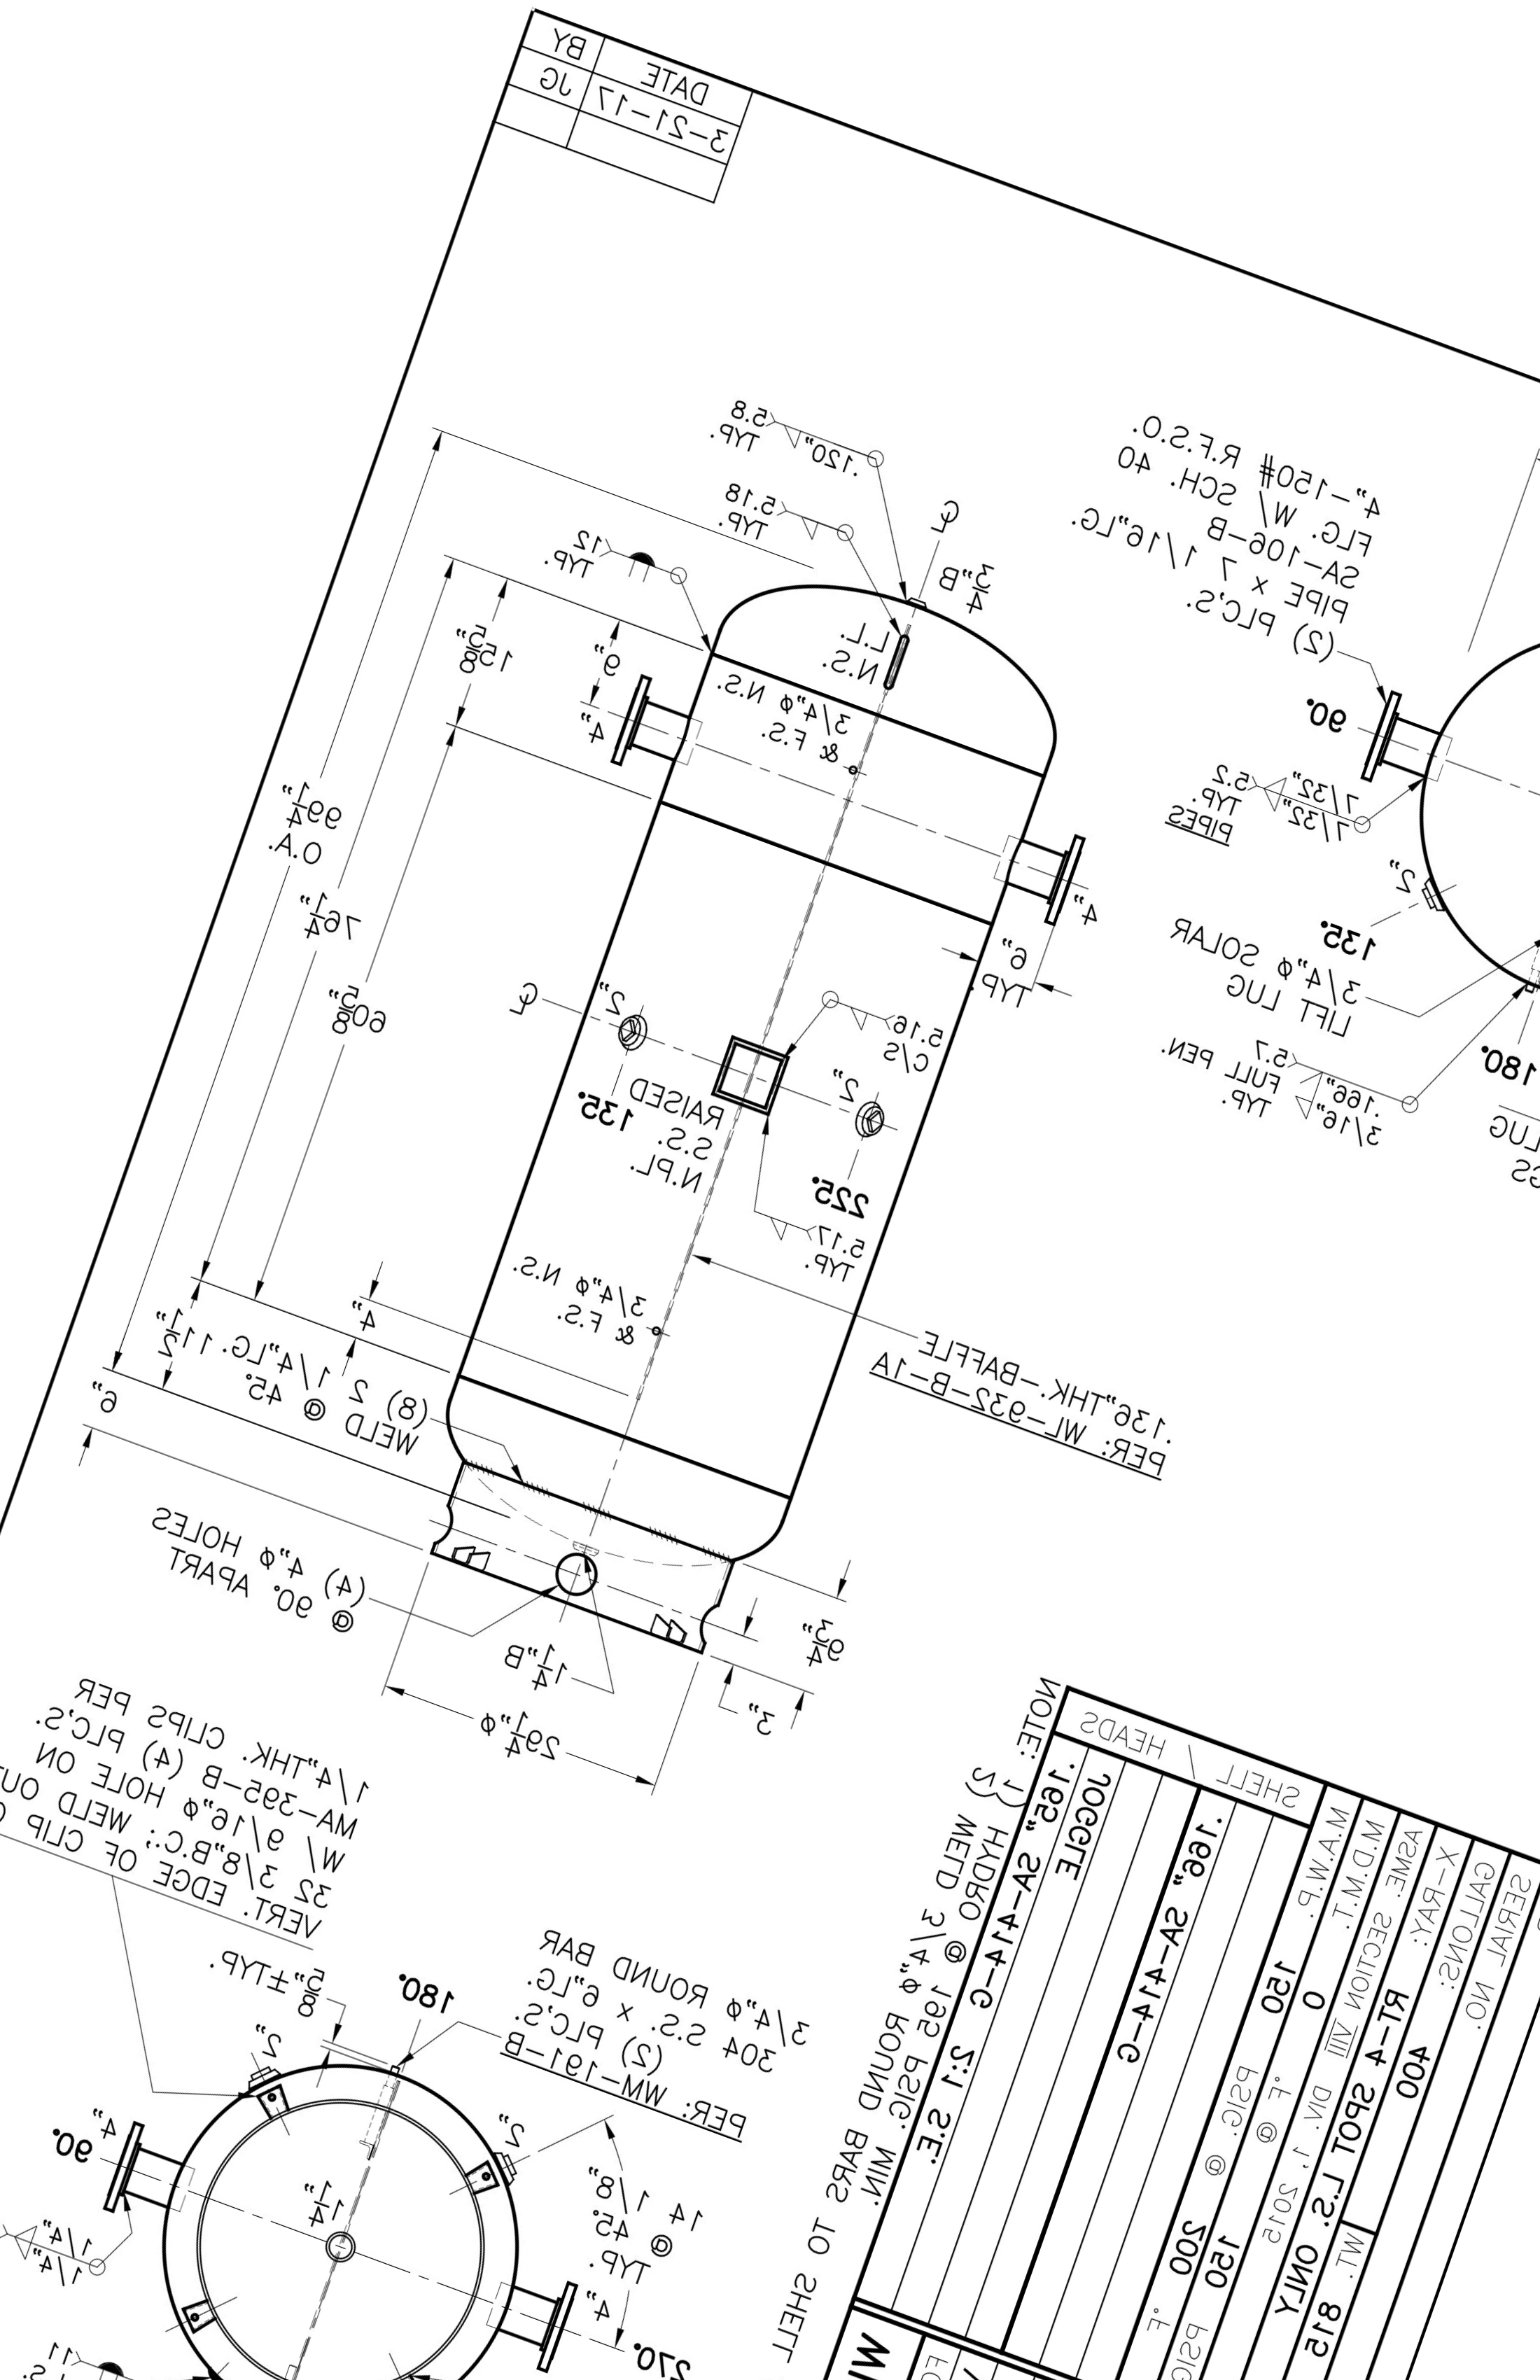Nozzle: (999, 793, 1115, 964), (94, 2123, 205, 2276), (1347, 677, 1439, 838), (605, 649, 706, 793), (498, 2243, 602, 2380)
